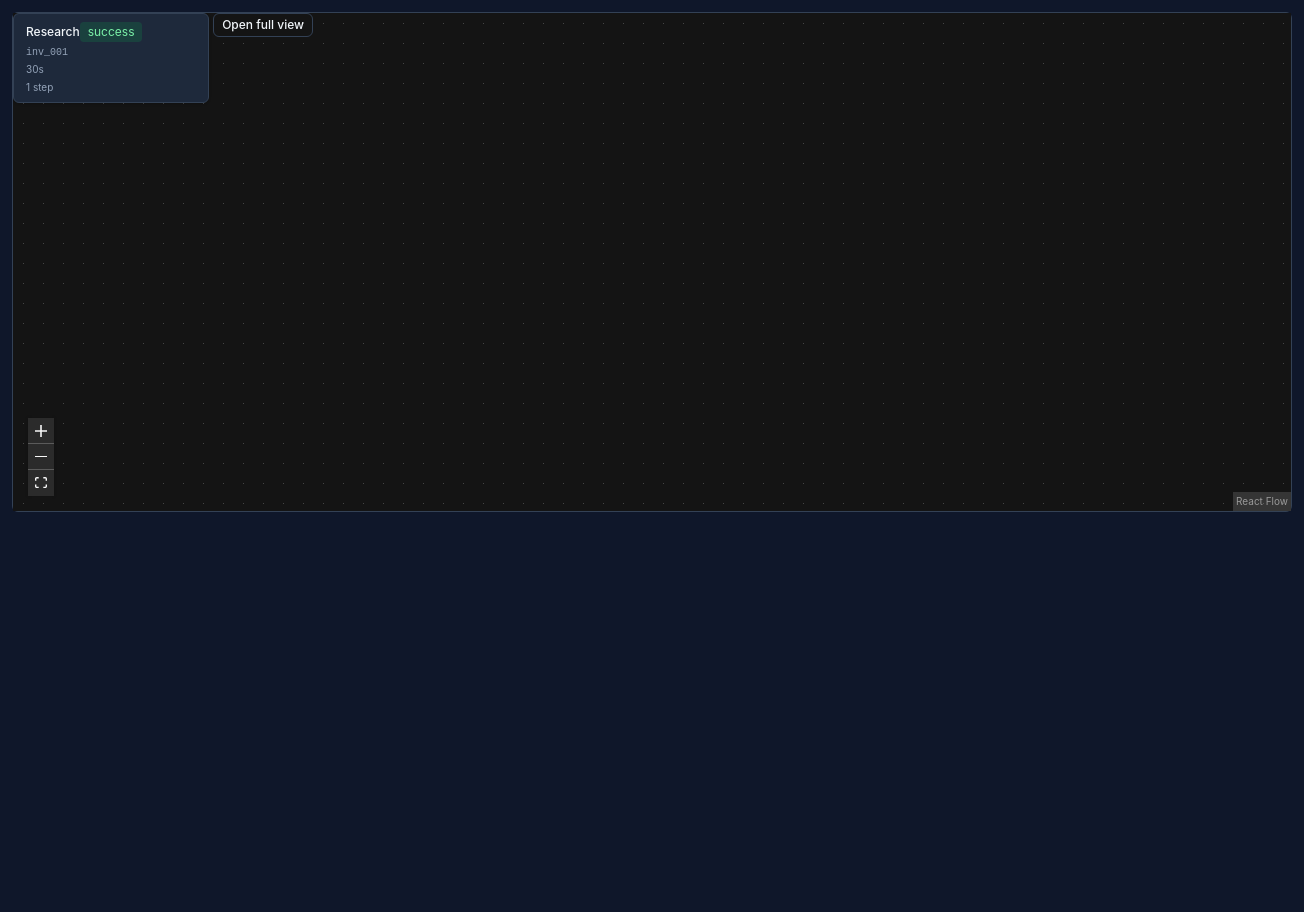
Test: InvocationGraph › stream-panel-close button hides the stream panel
Click the button with test id "invocation-node-inv_001".
click(111, 58)  # box [13,13,209,103]
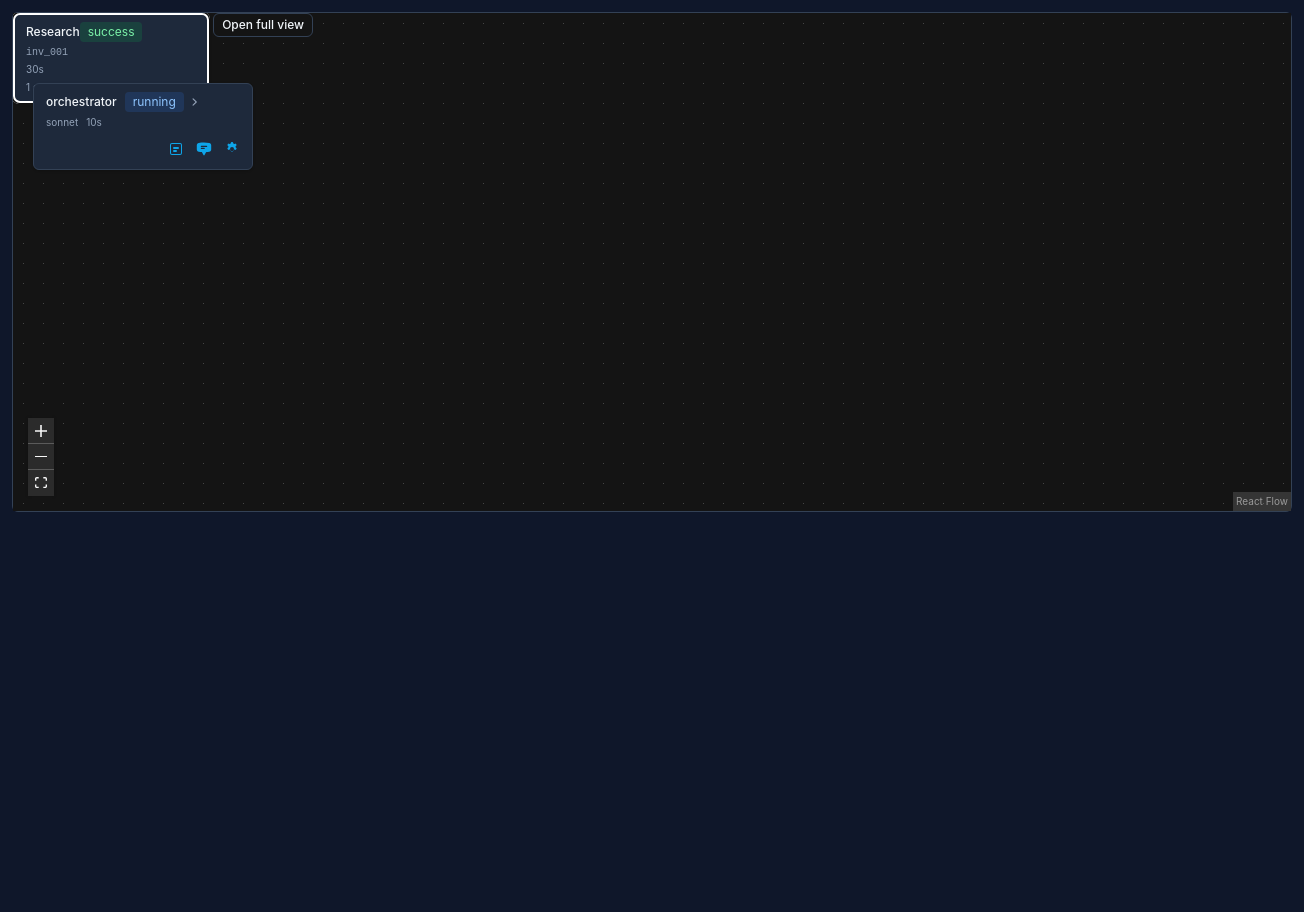
Click the button with aria-label "Show activity of ".
click(143, 109)  # box [34,84,252,133]
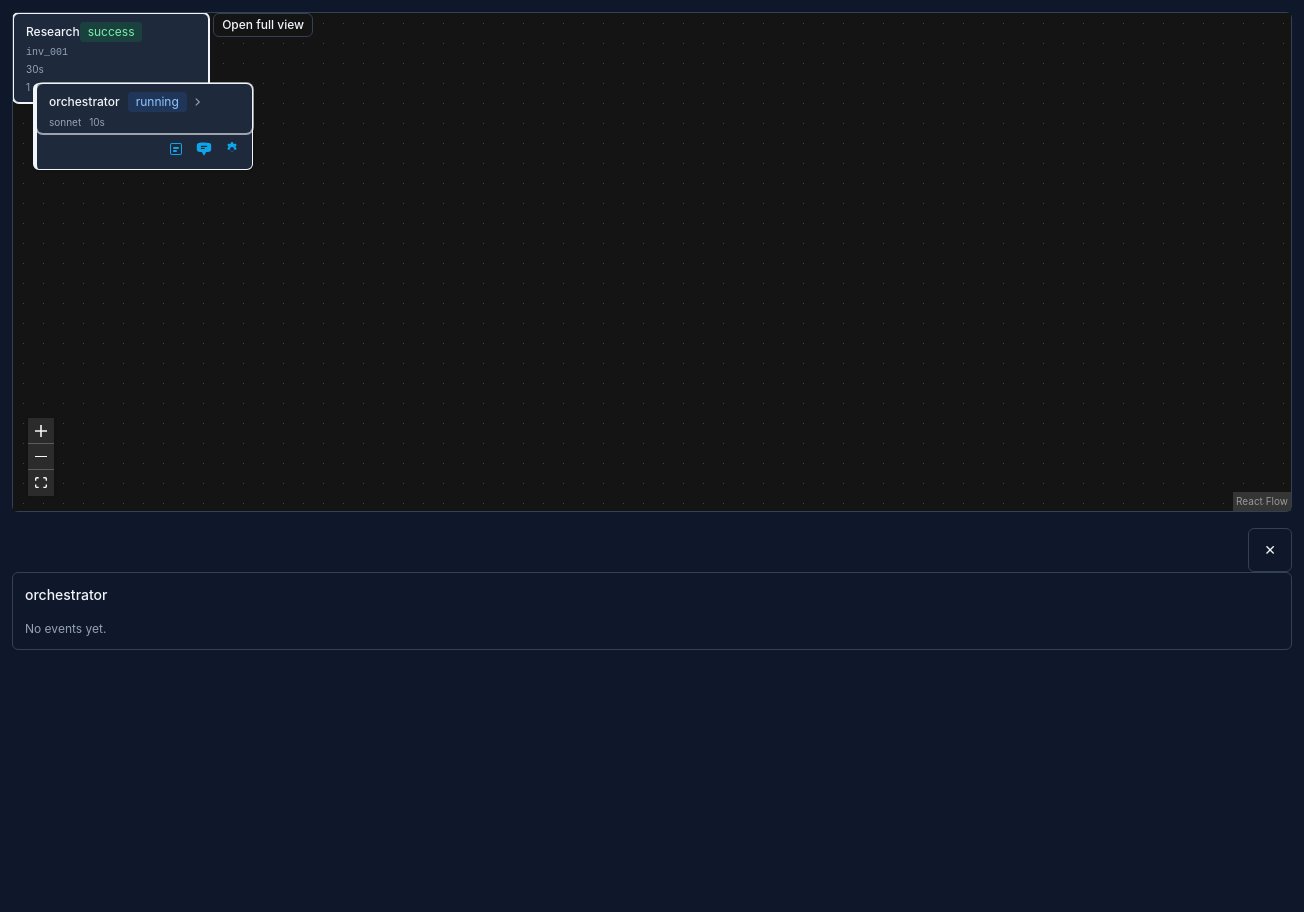
Check: the element with test id "stream-panel" is shown, box [12,572,1292,650]
Click the button with test id "stream-panel-close".
click(1270, 550)  # box [1248,528,1292,572]
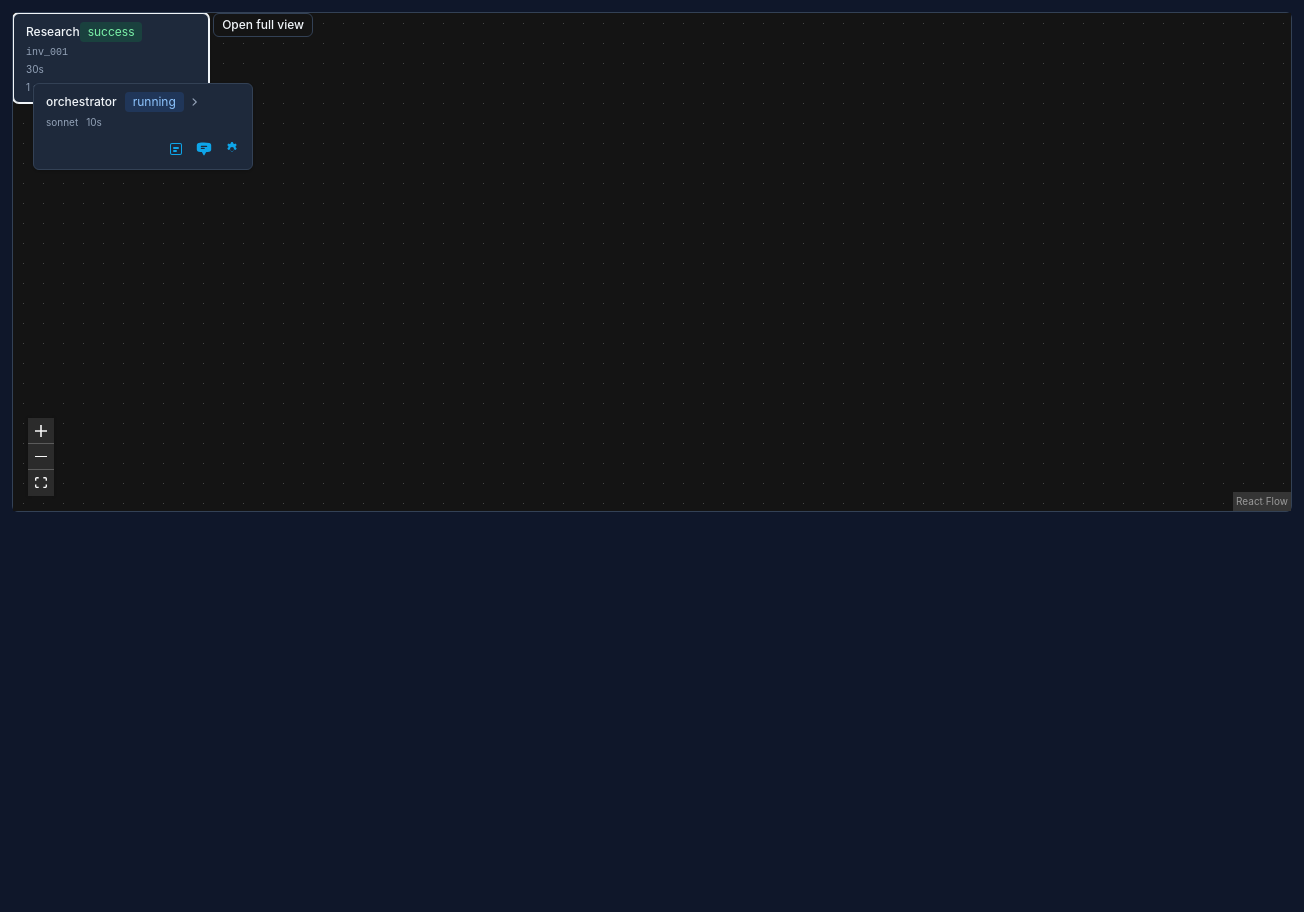
Check: the element with test id "stream-panel" is gone
